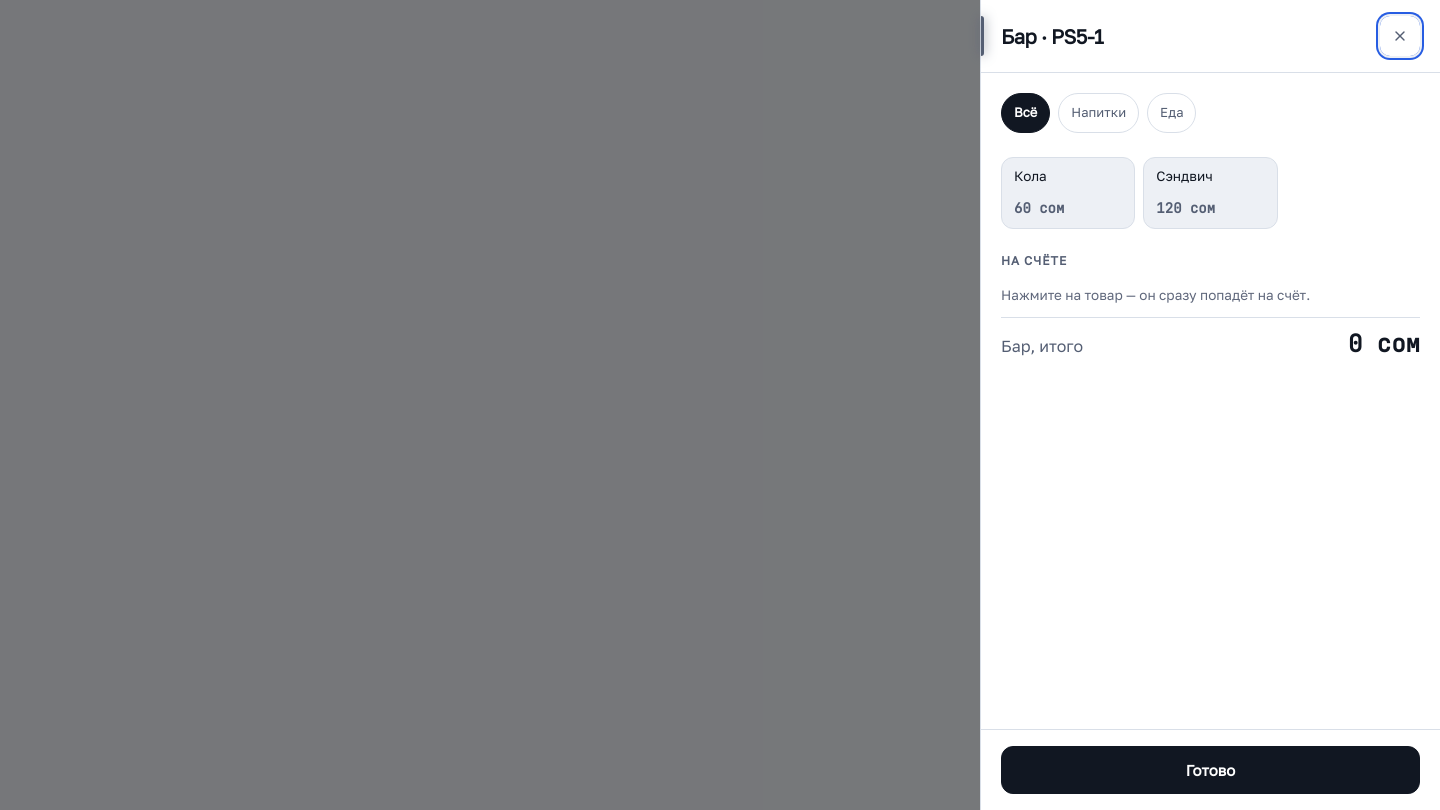
Test: BarDialog › filters the catalog by category
Click the button "Еда" at [1172, 113], box x1=1147 y1=93 x2=1196 y2=133
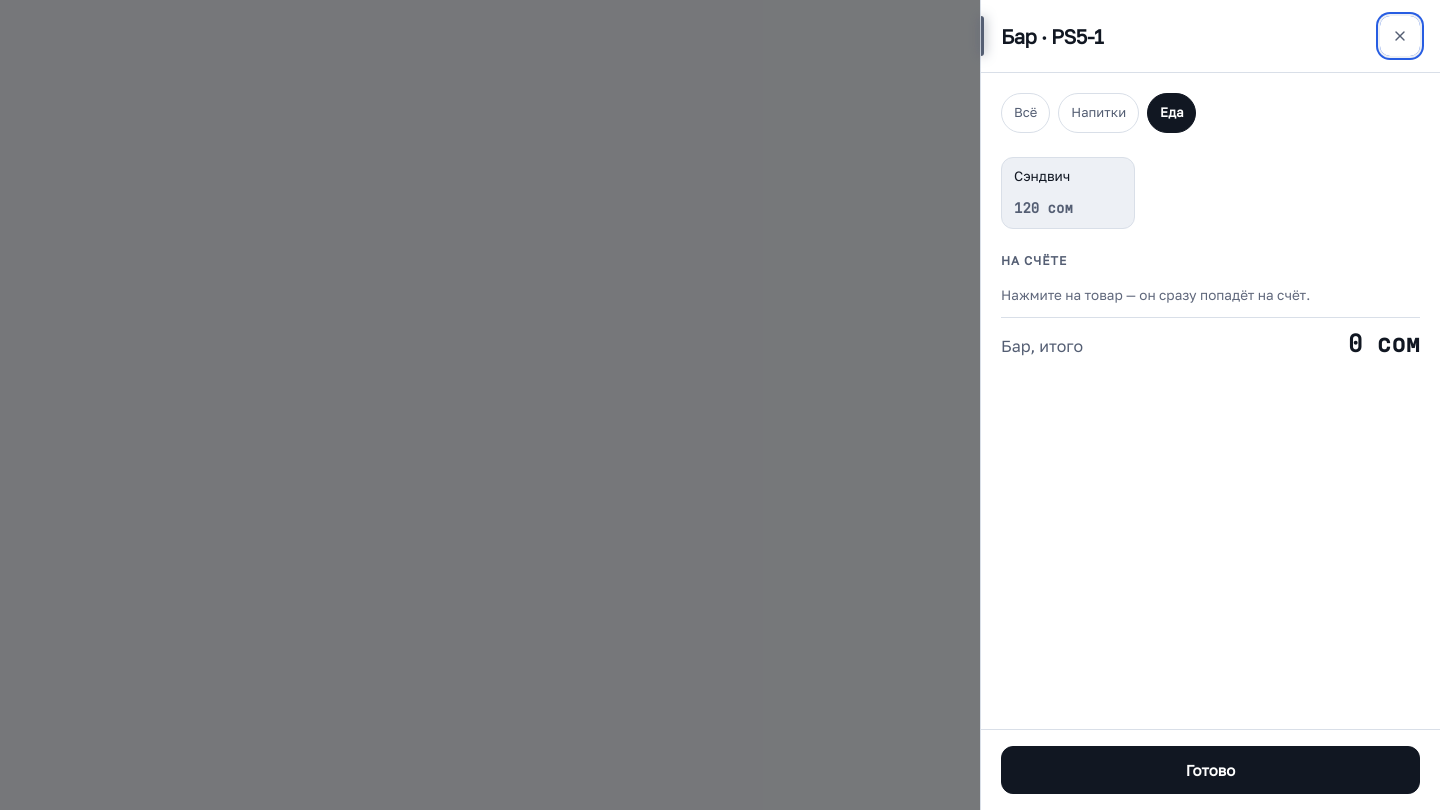
Expected: the text "Сэндвич" is shown, x1=1014 y1=168 x2=1070 y2=184
Result: the button "Кола" is gone
Click the button "Всё" at [1026, 113], box x1=1001 y1=93 x2=1050 y2=133
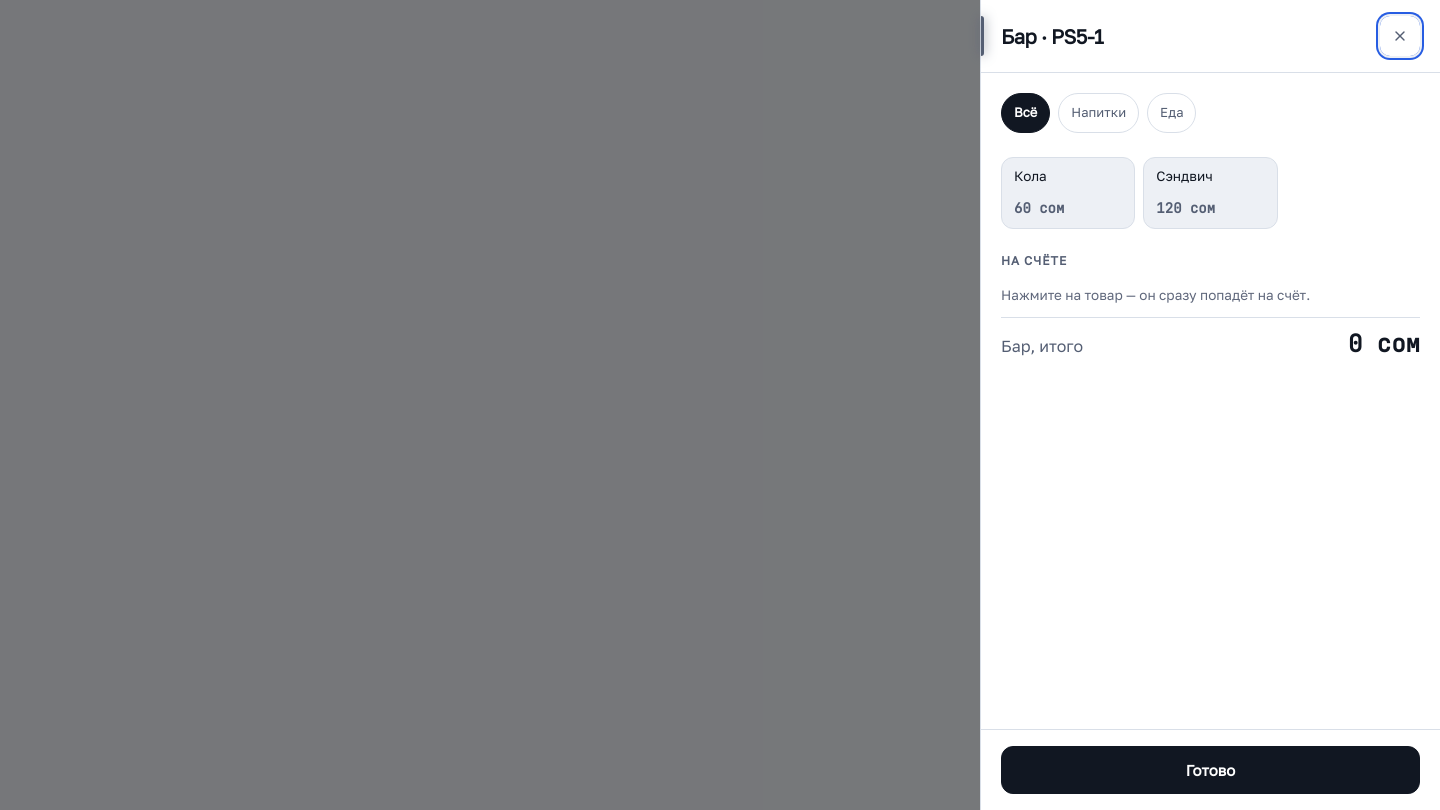
Result: the text "Кола" is shown at x1=1014 y1=168 x2=1047 y2=184
